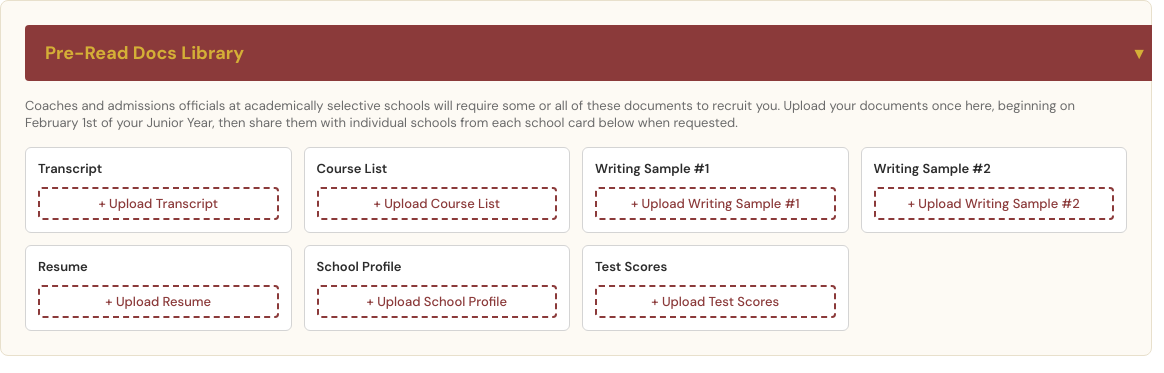
S1a — Pre-Read Docs Library collapsibility › (c) body is hidden when collapsed
Expected: the element with test id "pre-read-library-body" is shown, left=25, top=97, right=1127, bottom=331
Click the button with test id "collapsible-title-strip" at [145, 53], box left=25, top=25, right=1152, bottom=81
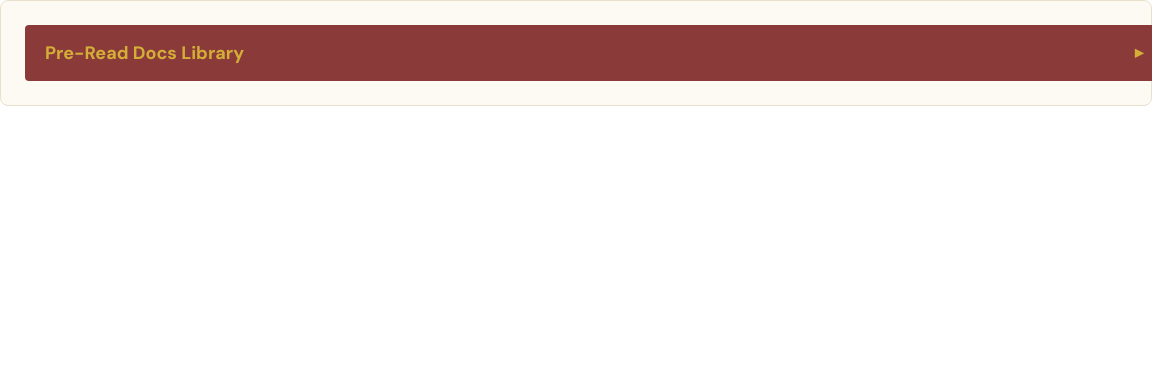
Expected: the element with test id "pre-read-library-body" is gone
Expected: the text with test id "pre-read-library-explainer" is gone
